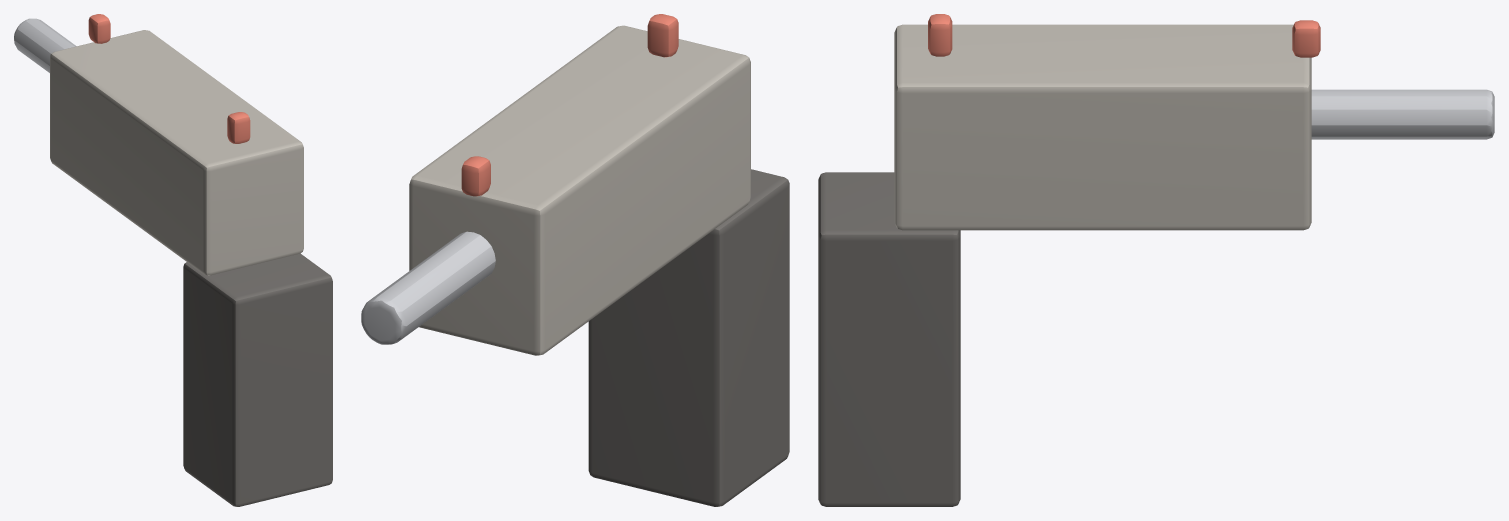
File: pistolet.glb
3 renders of one model, left to right at view 1: azimuth 30°, elevation 25°; view 2: azimuth 150°, elevation 25°; view 3: azimuth 270°, elevation 25°, orthographic. The views are drawn at different scales.
Visible parts, largest first — view 1: pistolet; view 2: pistolet; view 3: pistolet.
Boxes of the visible parts, <box> form: pistolet: <box>14,14,332,506</box>; pistolet: <box>361,14,789,506</box>; pistolet: <box>818,14,1494,506</box>.
Size of the model in its own units: 0.075 by 0.25 by 0.3325.
